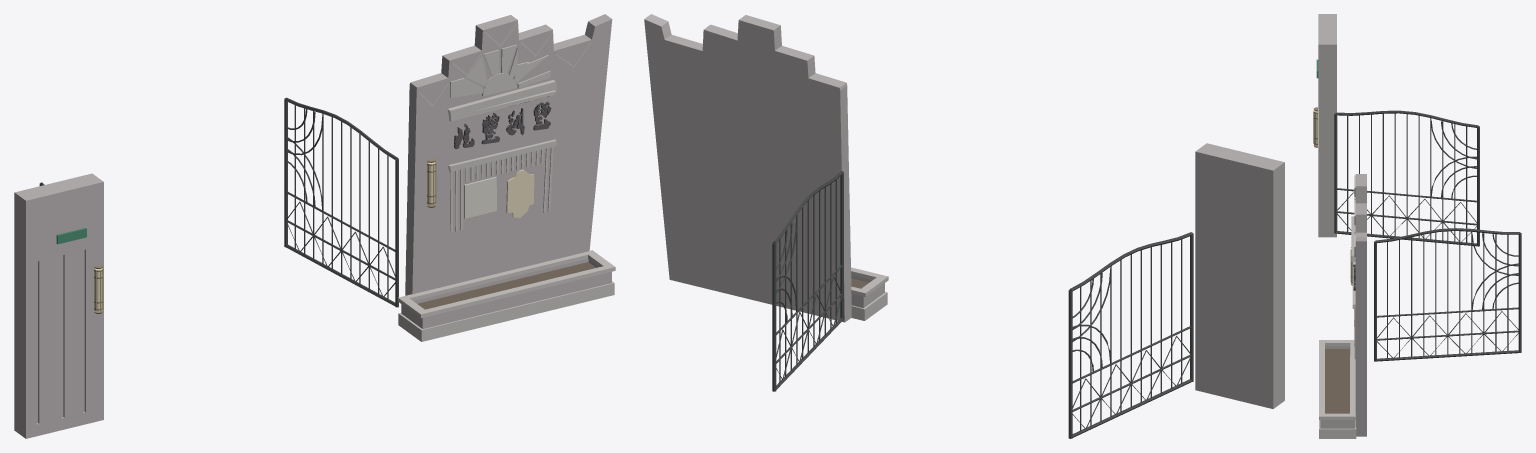
The model's file is lod-source.glb.
3 renders of one model, left to right at view 1: azimuth 30°, elevation 25°; view 2: azimuth 150°, elevation 25°; view 3: azimuth 270°, elevation 25°, orthographic. The views are drawn at different scales.
Parts seen in each view (by area): view 1: 兆丰别墅长宁路弄口题名墙; view 2: 兆丰别墅长宁路弄口题名墙; view 3: 兆丰别墅长宁路弄口题名墙.
Boxes of the visible parts, x1=… form: 兆丰别墅长宁路弄口题名墙: x1=14, y1=14, x2=615, y2=438; 兆丰别墅长宁路弄口题名墙: x1=644, y1=14, x2=1284, y2=438; 兆丰别墅长宁路弄口题名墙: x1=1313, y1=14, x2=1521, y2=438.
Bounding box in the file's own units: 9.16 × 3.97 × 3.35.
